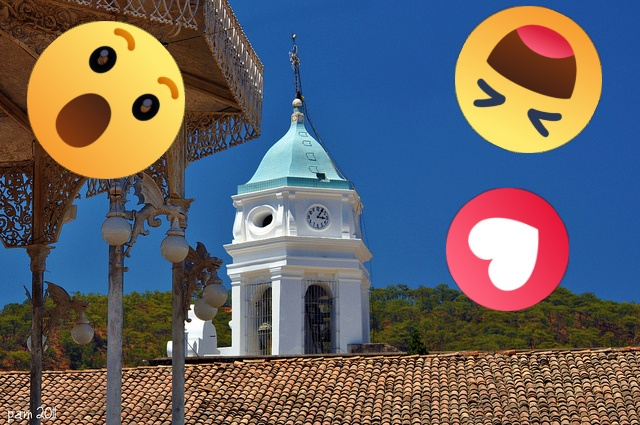haha: (455, 6, 602, 153)
love: (446, 188, 569, 311)
wow: (27, 21, 185, 179)
